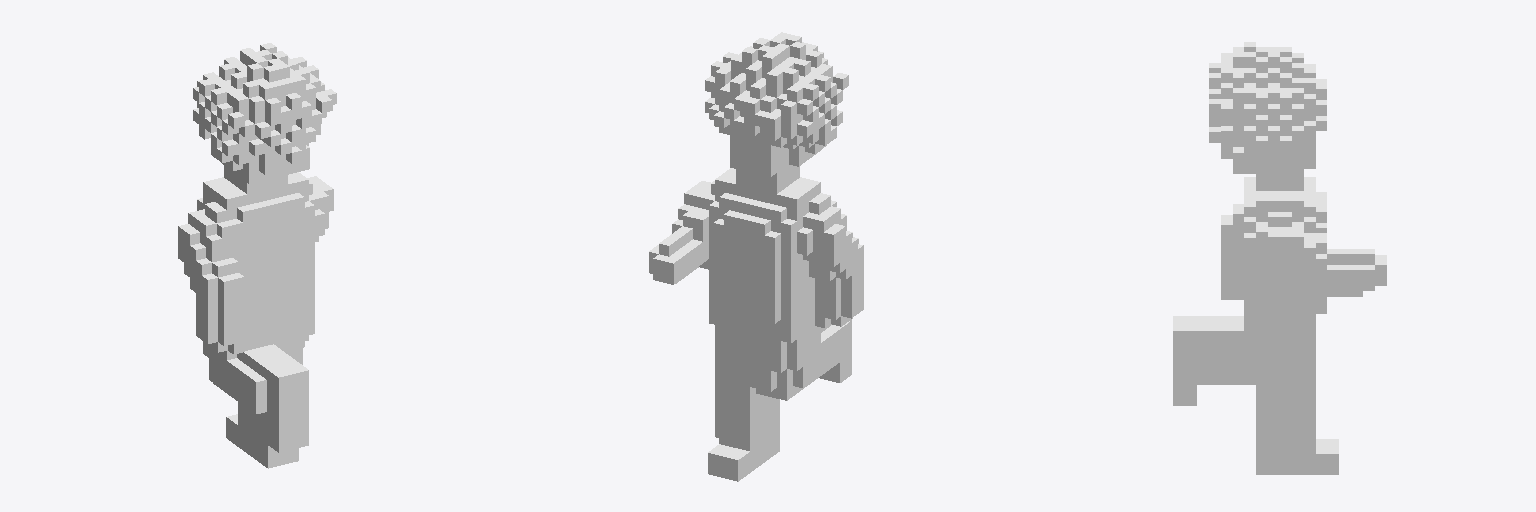
Rendered from felix_renn_1.obj.
3 views of the same model, side by side, from view 1: azimuth 30°, elevation 25°; view 2: azimuth 150°, elevation 25°; view 3: azimuth 270°, elevation 25° (orthographic).
Visible parts, largest first — view 1: object 1; view 2: object 1; view 3: object 1.
Part boxes in pixels (x1,y1,x2,y2): object 1: (178, 43, 336, 468); object 1: (649, 32, 863, 481); object 1: (1173, 42, 1386, 474).
Bounding box in the file's own units: 1.4 × 3.8 × 1.8.